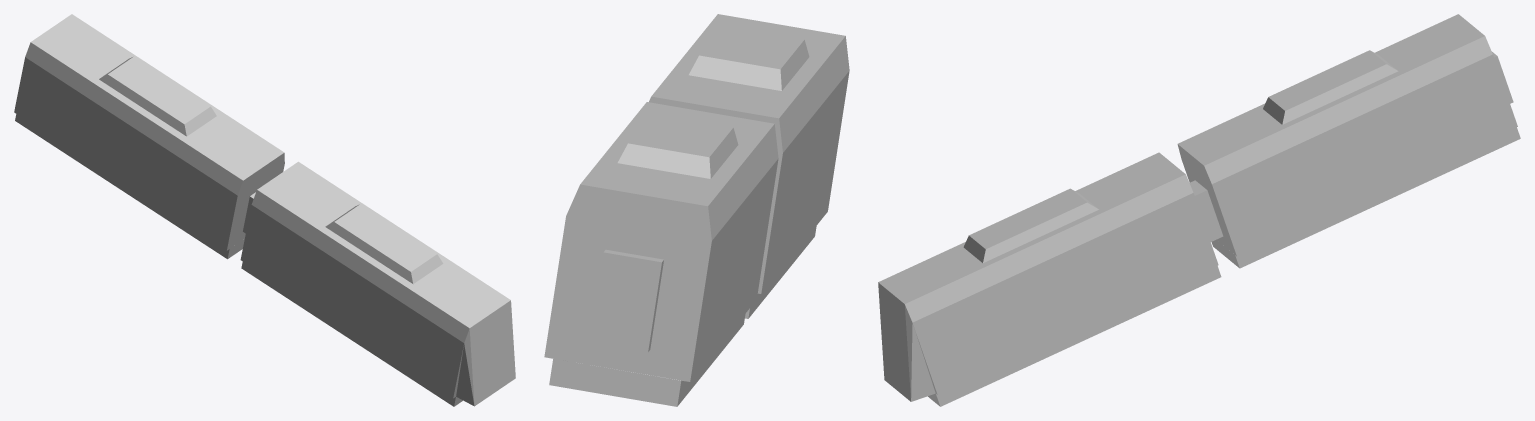
Rendered from train.glb.
3 renders of one model, left to right at view 1: azimuth 30°, elevation 25°; view 2: azimuth 150°, elevation 25°; view 3: azimuth 270°, elevation 25°, orthographic. The views are drawn at different scales.
Parts seen in each view (by area): view 1: node_id6, node_id4; view 2: node_id4, node_id6; view 3: node_id6, node_id4.
Boxes of the visible parts, x1,y1,x2,y2 form: node_id6: (240,161,515,406); node_id4: (14,14,284,259); node_id4: (544,102,778,406); node_id6: (649,14,849,318); node_id6: (878,152,1221,406); node_id4: (1177,14,1520,268).
Bounding box in the file's own units: 0.1966 × 0.1823 × 0.3851.
Materials: 2 (2 with a texture image).
